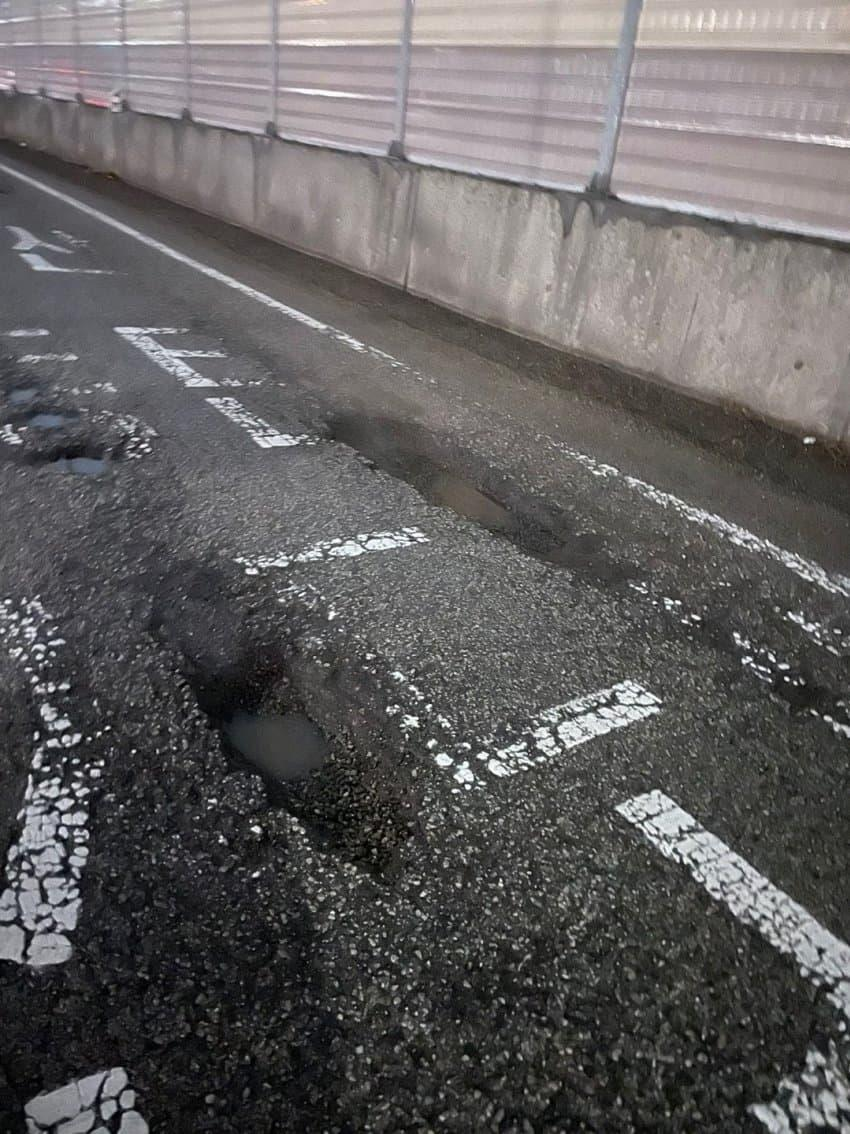pothole: (135, 553, 460, 898), (312, 364, 686, 587), (1, 438, 151, 481), (0, 375, 114, 423)
